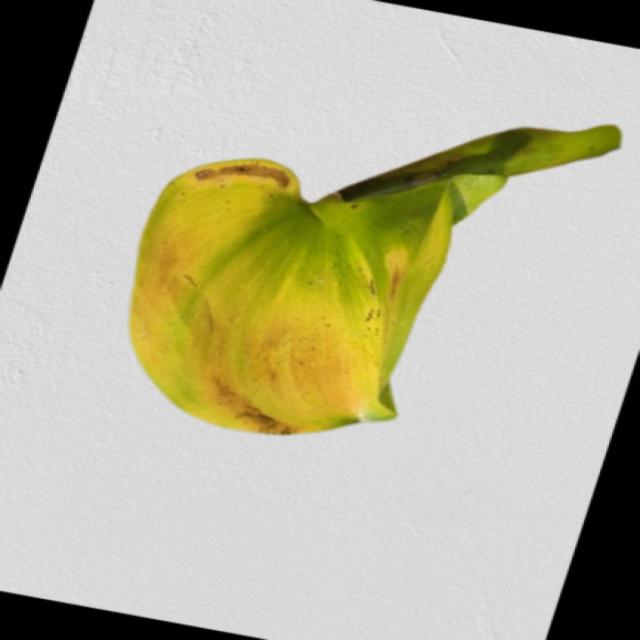daun berpenyakit kuning: (130, 126, 620, 434)
